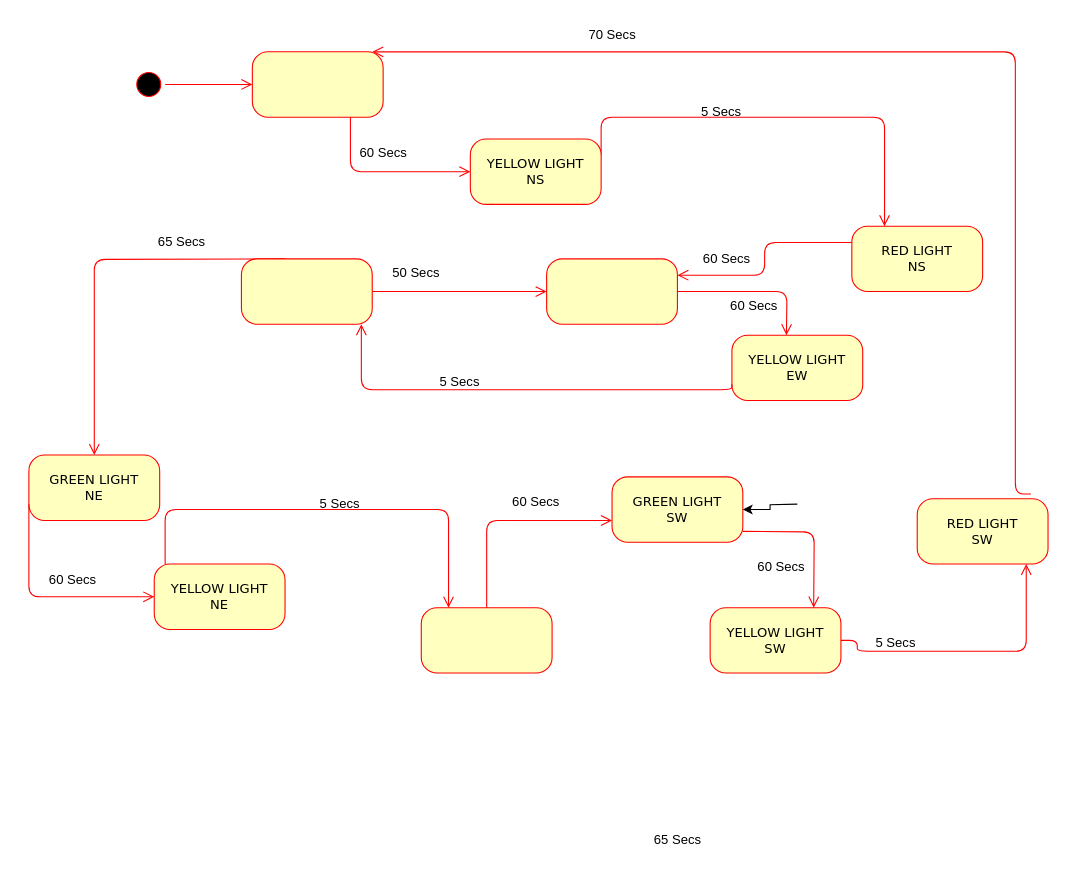
This 1067x874 diagram has some shape labels left out. The shapes that lost their labels are listed below. From the top down, each one's box as (x1, y1, x2, y2) in pixels, then its label:
(251, 51, 383, 117): GREEN LIGHT NS
(240, 258, 372, 324): RED LIGHT EW
(546, 258, 677, 324): GREEN LIGHT EW
(420, 607, 552, 673): RED LIGHT NE
